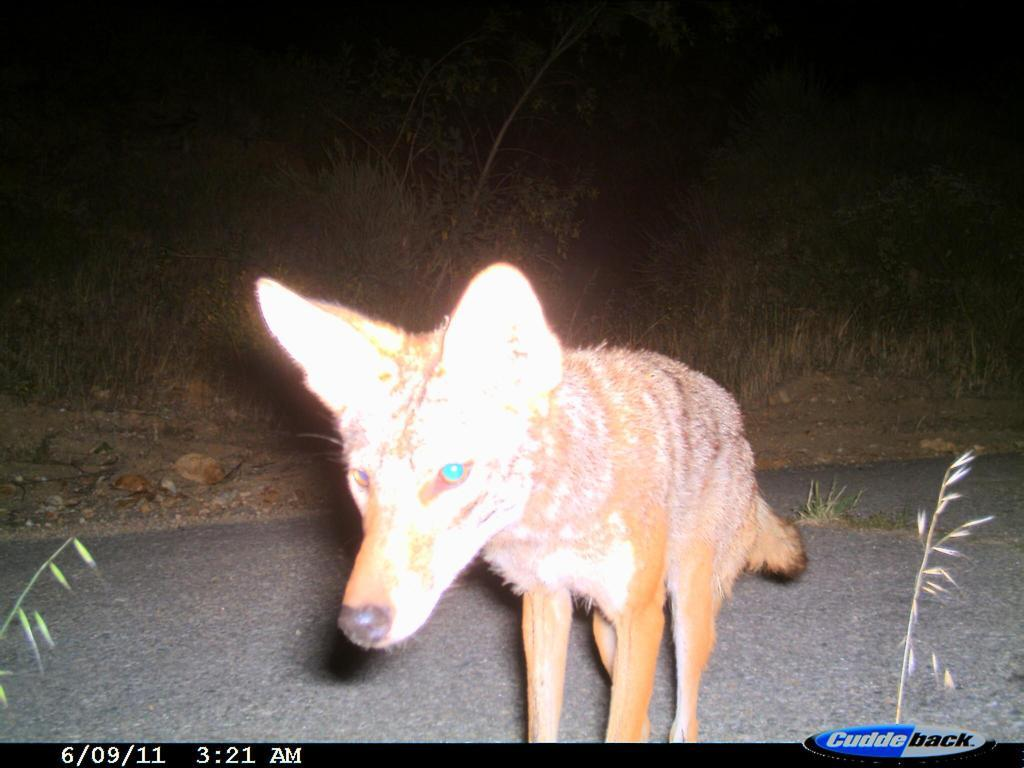coyote: (249, 260, 811, 743)
